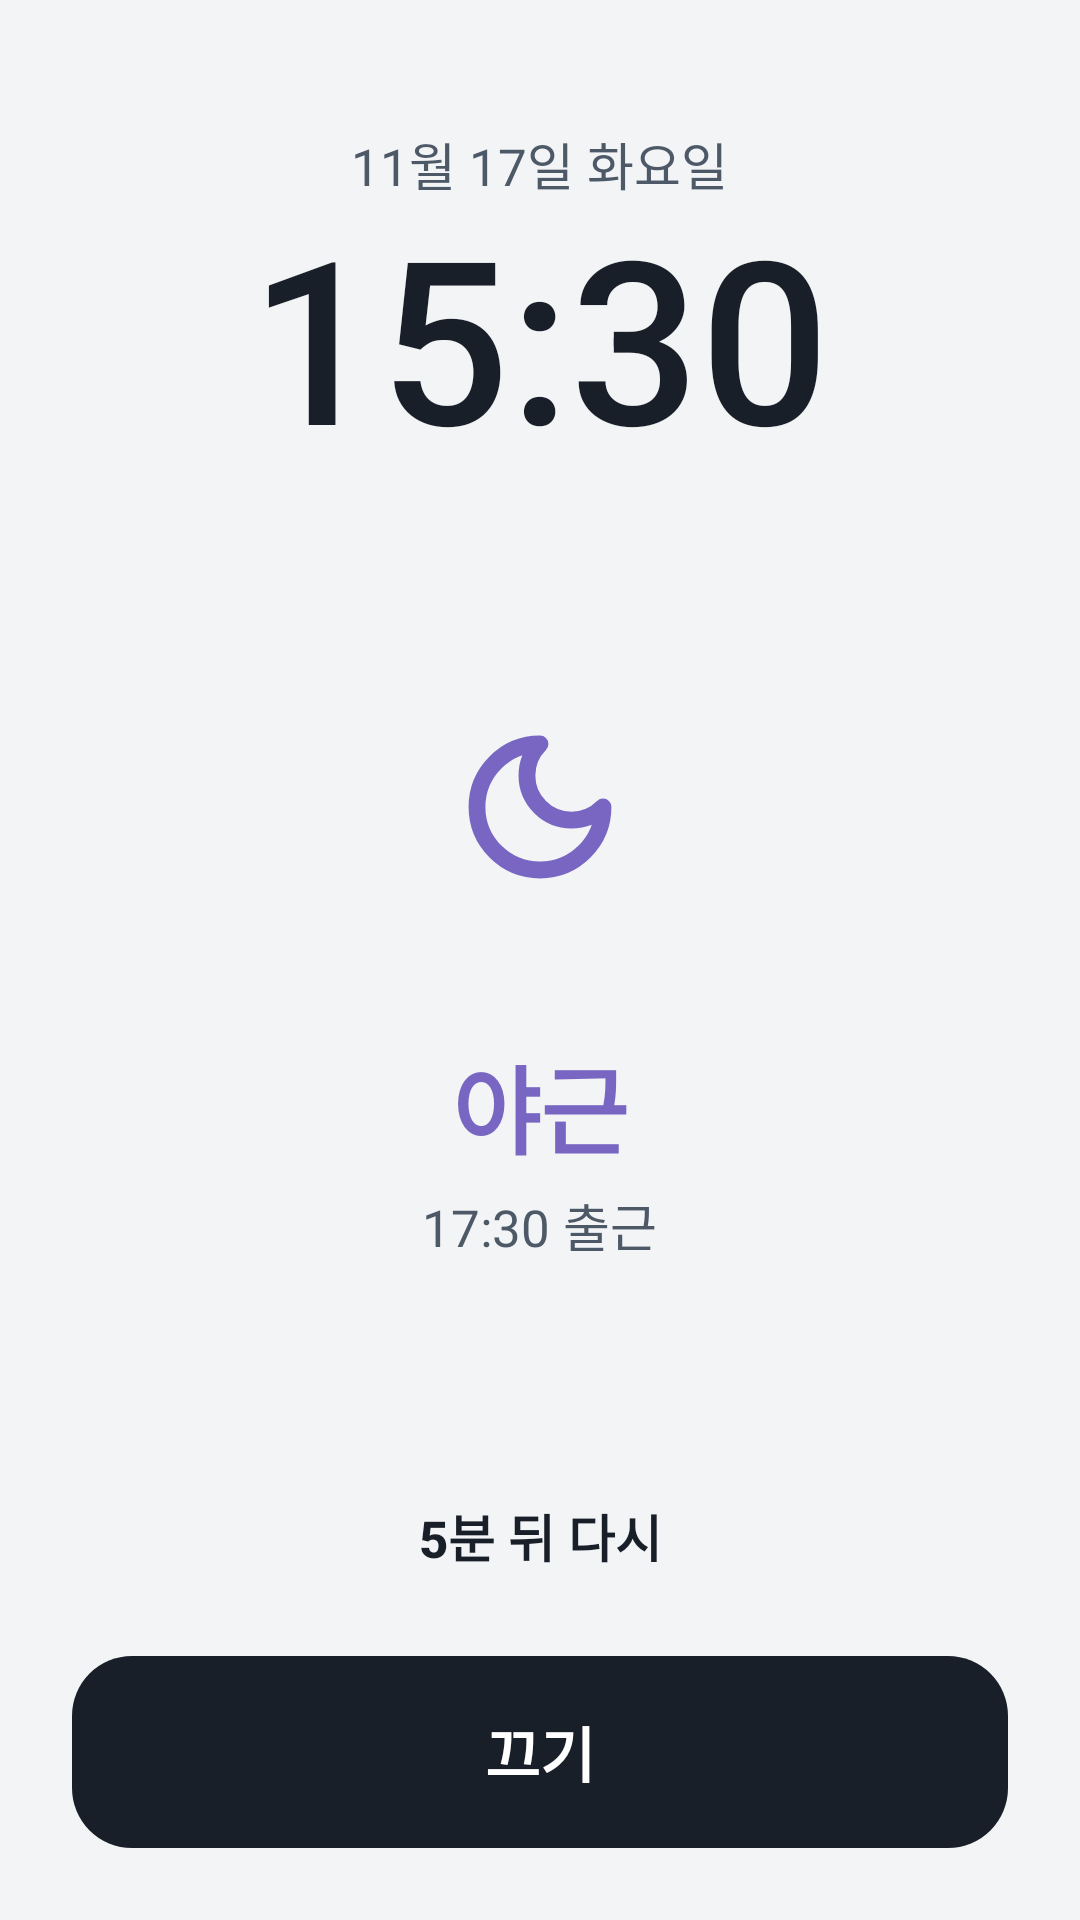

Where icons sit on this 1080w x 1920h app screen, as BBox(x1, y1, x2, y2):
shift night: BBox(468, 735, 612, 879)
